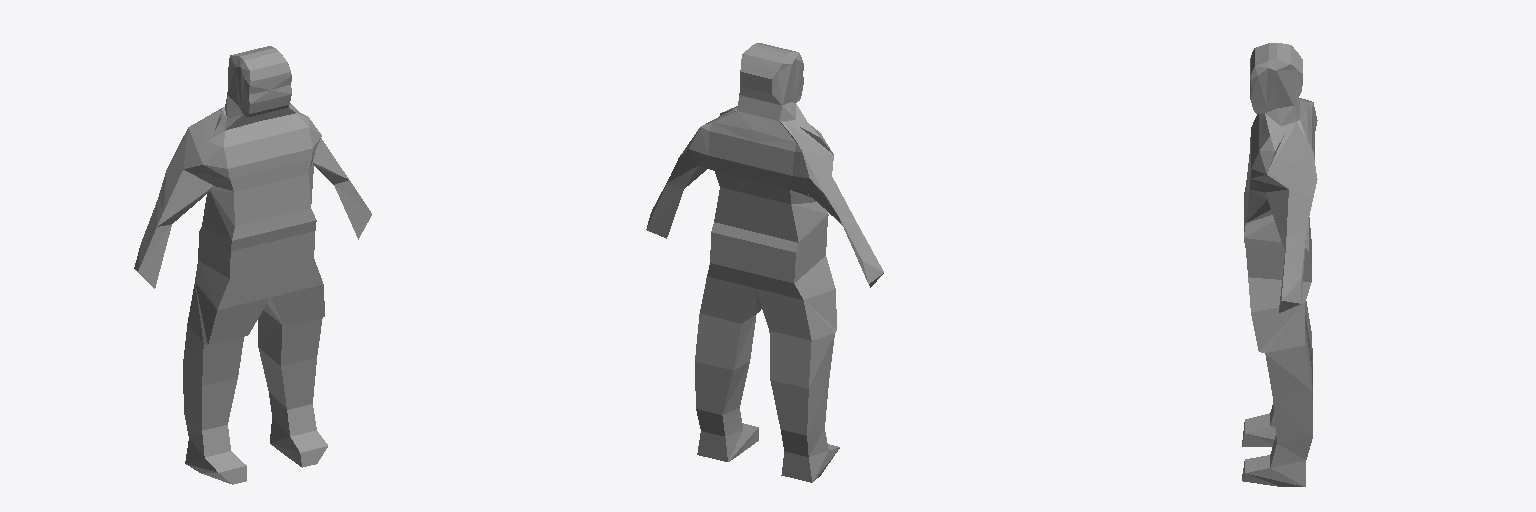
Rendered from revil.obj.
The picture shows the model from 3 angles: view 1: azimuth 30°, elevation 25°; view 2: azimuth 150°, elevation 25°; view 3: azimuth 270°, elevation 25°; orthographic projection.
Parts seen in each view (by area): view 1: Plane; view 2: Plane; view 3: Plane.
Boxes of the visible parts, x1=… form: Plane: x1=134, y1=46, x2=371, y2=484; Plane: x1=646, y1=43, x2=883, y2=482; Plane: x1=1242, y1=43, x2=1317, y2=486.
Size of the model in its own units: 0.7149 by 1.19 by 0.1983.